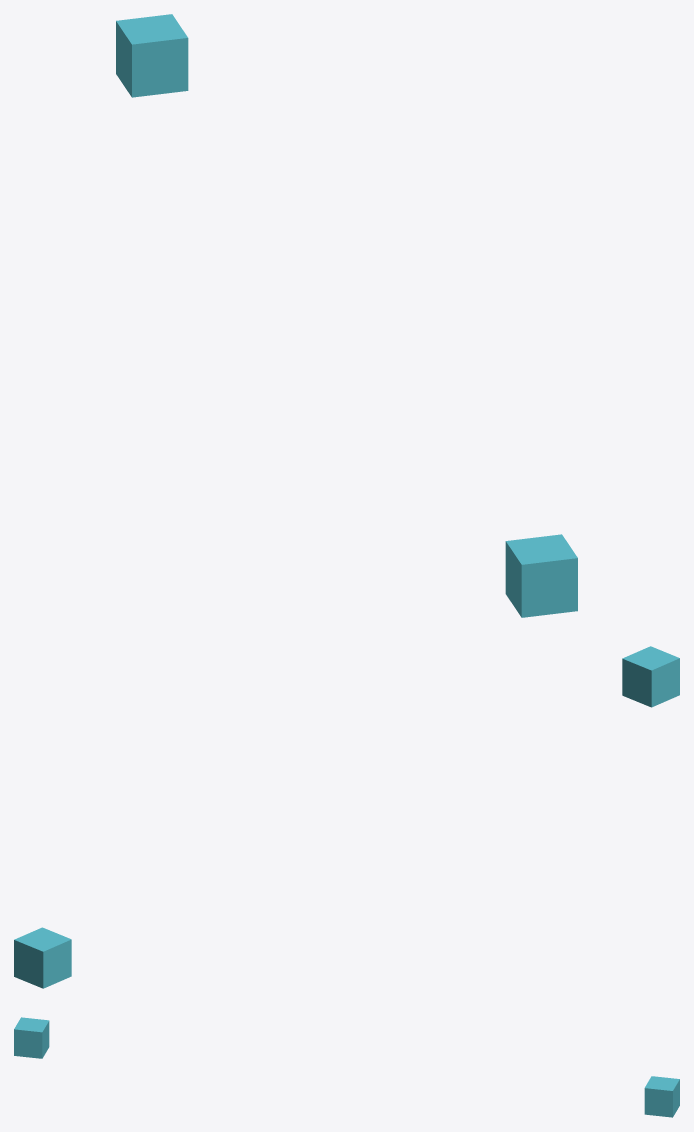
The model's file is 1016_chimney.glb.
The picture shows the model from 3 angles, top to bottom: view 1: azimuth 30°, elevation 25°; view 2: azimuth 150°, elevation 25°; view 3: azimuth 270°, elevation 25°; orthographic projection. The views are drawn at different scales.
Parts seen in each view (by area): view 1: Box004, Box005; view 2: Box004, Box005; view 3: Box004, Box005.
Part boxes in pixels (x1=…): Box004: x1=505, y1=534, x2=577, y2=617; Box005: x1=116, y1=14, x2=188, y2=97; Box004: x1=622, y1=646, x2=679, y2=707; Box005: x1=14, y1=927, x2=71, y2=988; Box004: x1=14, y1=1017, x2=49, y2=1058; Box005: x1=644, y1=1076, x2=679, y2=1117.
Size of the model in its own units: 4.95 by 0.8302 by 18.9.
